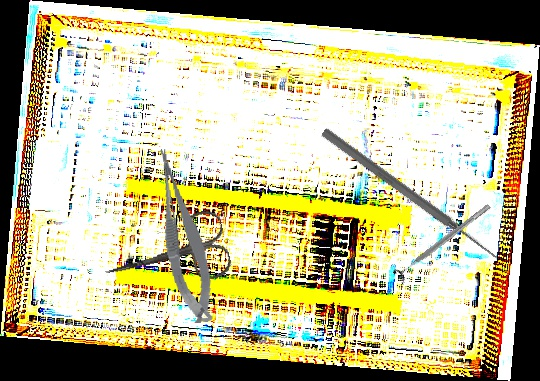Fixation Ring: (391, 198, 496, 286)
Iris Scissors: (96, 207, 235, 305)
Micro Scissor: (151, 145, 218, 326)
Pusher: (319, 126, 502, 264)
